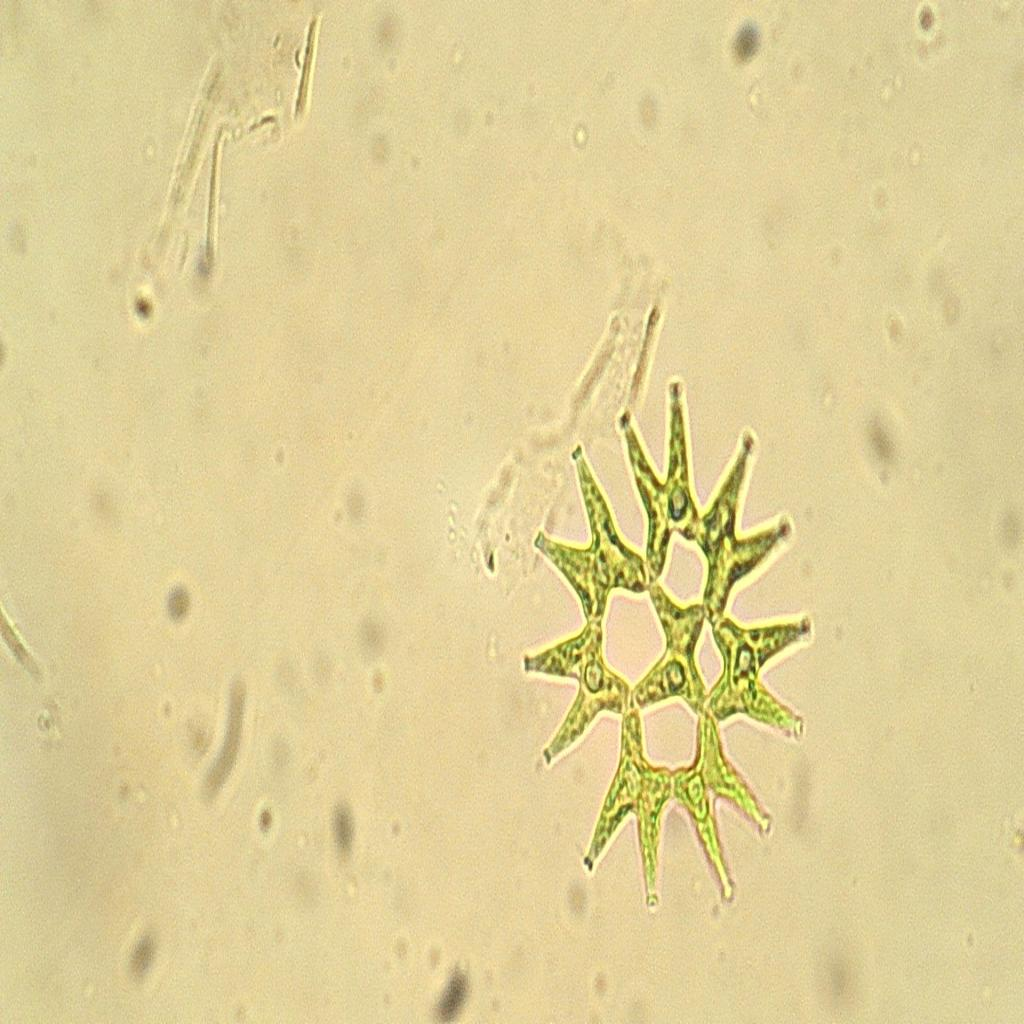Pediastrum_75T: (513, 362, 825, 936)
